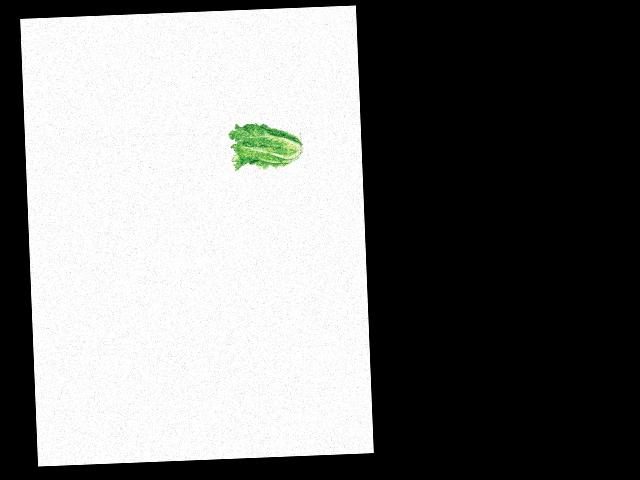lettuce: (227, 121, 302, 172)
